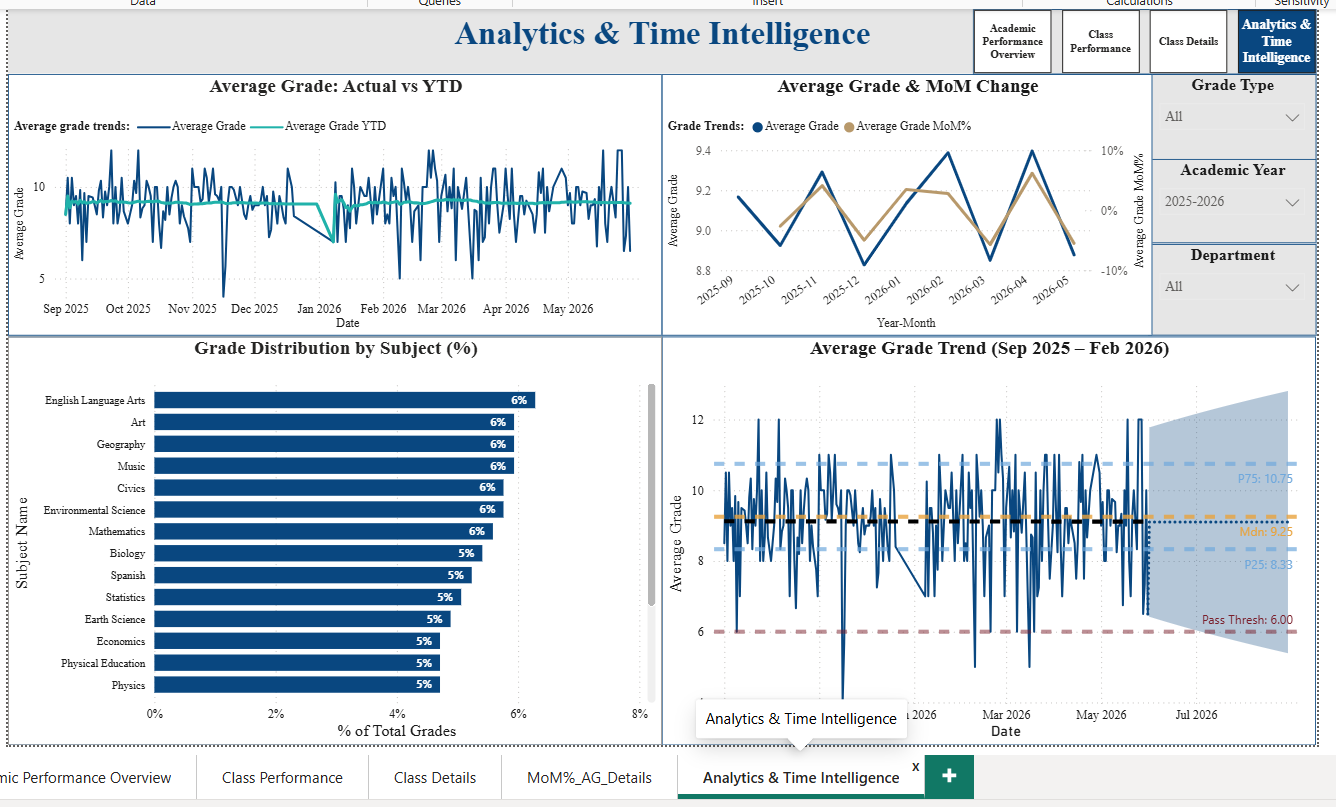

The dashboard page shown, as its layout file describes it:
{"tool":"powerbi","page":{"name":"Analytics & Time Intelligence","canvas":[1280,720],"ordinal":4},"visuals":[{"type":"lineChart","title":"Average Grade Trend (Sep 2025 – Feb 2026)","fields":{"Y":["_Measures.Average Grade"],"Category":["Calendar.Date"]},"box":[640,320,640,400],"z":0},{"type":"textbox","box":[0,0,1280.3,63.6],"z":1000},{"type":"slicer","title":"Grade Type","fields":{"Values":["grades.grade_type"]},"box":[1115.3,63.5,164.5,83.7],"z":2000},{"type":"slicer","title":"Academic Year","fields":{"Values":["periods.academic_year"]},"box":[1115.3,147.2,164.5,82.2],"z":3000},{"type":"slicer","title":"Department","fields":{"Values":["subjects.department_hint"]},"box":[1115.3,229.4,164.5,89.5],"z":4000},{"type":"clusteredBarChart","title":"Grade Distribution by Subject (%)","fields":{"Category":["subjects.subject_name"],"Y":["Divide(CountNonNull(grades.grade_id), ScopedEval(CountNonNull(grades.grade_id), []))"]},"box":[0,320,640,400],"z":5000},{"type":"lineChart","title":"Average Grade: Actual vs YTD","fields":{"Y":["_Measures.Average Grade","_Measures.Average Grade YTD"],"Category":["Calendar.DateAxisLabel"]},"box":[0,64,640,256],"z":6000},{"type":"lineChart","title":"Average Grade & MoM Change","fields":{"Category":["Calendar.Year-Month"],"Y":["_Measures.Average Grade"],"Y2":["_Measures.Average Grade MoM%"]},"box":[640,64,480,256],"z":7000},{"type":"pageNavigator","box":[944,0,336,64],"z":12000}]}

Visuals, with their boxes on the page's 1280x720 design canvas (x1, y1, x2, y2). These are canvas units, not pixel positions in the 1336x807 screenshot, which may show the page scaled, cropped or inside an application window:
"Average Grade Trend (Sep 2025 – Feb 2026)" lineChart: (left=640, top=320, right=1280, bottom=720)
textbox: (left=0, top=0, right=1280, bottom=64)
"Grade Type" slicer: (left=1115, top=64, right=1280, bottom=147)
"Academic Year" slicer: (left=1115, top=147, right=1280, bottom=229)
"Department" slicer: (left=1115, top=229, right=1280, bottom=319)
"Grade Distribution by Subject (%)" clusteredBarChart: (left=0, top=320, right=640, bottom=720)
"Average Grade: Actual vs YTD" lineChart: (left=0, top=64, right=640, bottom=320)
"Average Grade & MoM Change" lineChart: (left=640, top=64, right=1120, bottom=320)
pageNavigator: (left=944, top=0, right=1280, bottom=64)
